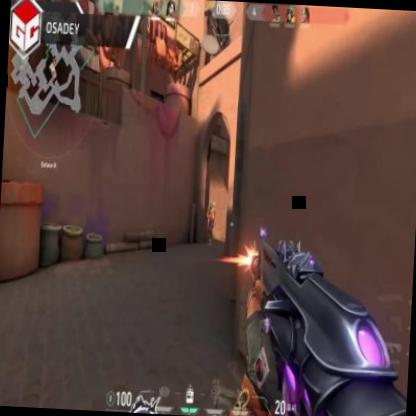enemy: (204, 202, 216, 244)
enemy_head: (209, 201, 212, 208)
